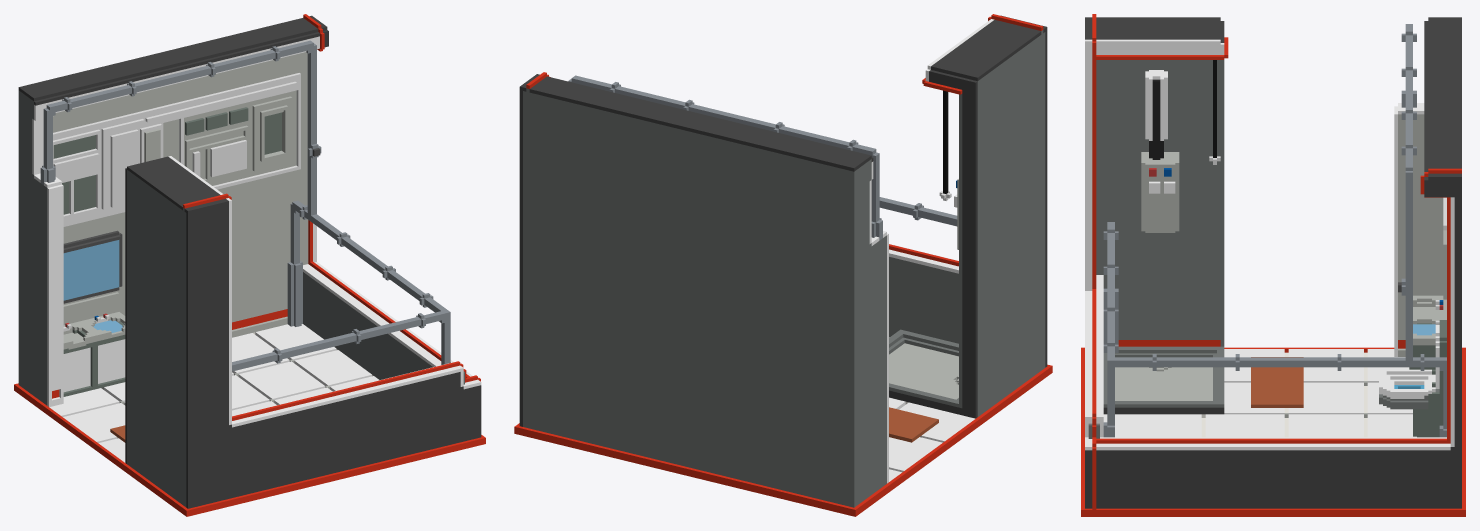
The model's file is Room_3.obj.
3 views of the same model, side by side, from view 1: azimuth 30°, elevation 25°; view 2: azimuth 150°, elevation 25°; view 3: azimuth 270°, elevation 25° (orthographic). The views are drawn at different scales.
Size of the model in its own units: 102 by 100 by 102.
